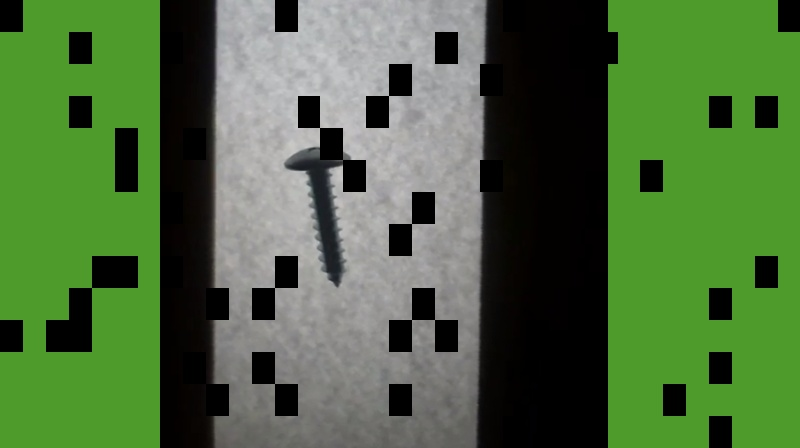S003: (282, 142, 352, 289)
